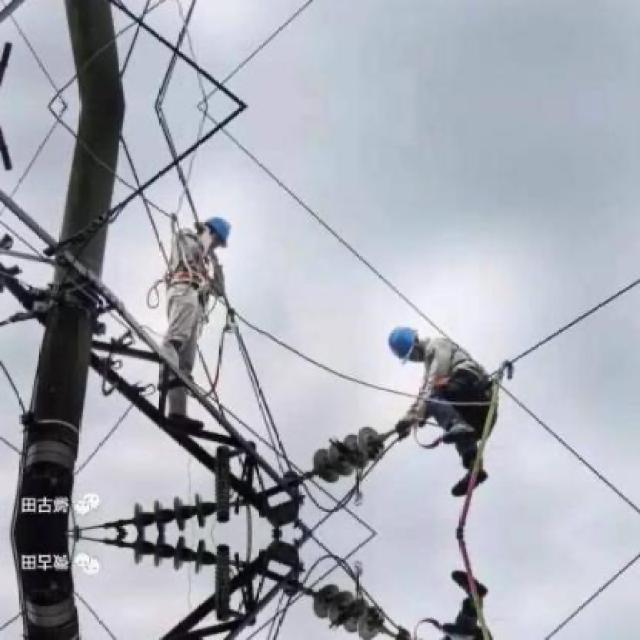con casco: (192, 209, 238, 261), (379, 307, 414, 372)
